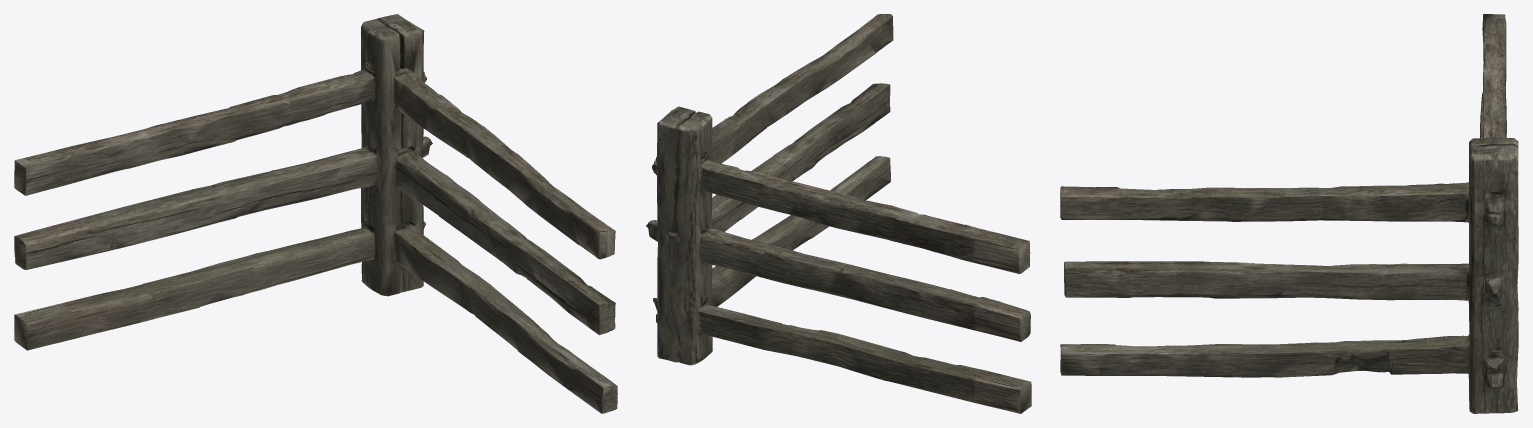
The model's file is yard-fence-corner.glb.
The picture shows the model from 3 angles, left to right: view 1: azimuth 30°, elevation 25°; view 2: azimuth 150°, elevation 25°; view 3: azimuth 270°, elevation 25°; orthographic projection. The views are drawn at different scales.
Parts seen in each view (by area): view 1: Mesh_0; view 2: Mesh_0; view 3: Mesh_0.
Boxes of the visible parts, left/top/right/bottom form: Mesh_0: left=14, top=14, right=617, bottom=413; Mesh_0: left=646, top=14, right=1031, bottom=413; Mesh_0: left=1060, top=14, right=1518, bottom=413.
Size of the model in its own units: 1.9 by 1.13 by 1.83.
1 material, 1 textured.
